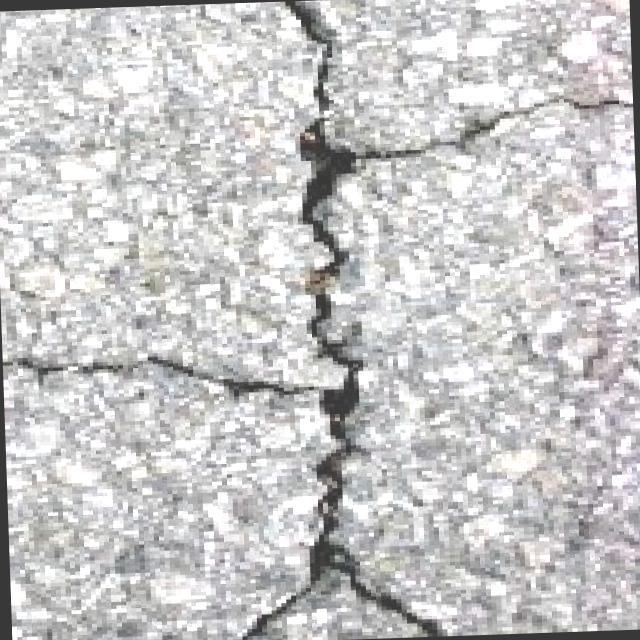crack: (283, 0, 376, 542), (225, 536, 448, 640), (4, 347, 318, 407), (357, 93, 633, 161)
